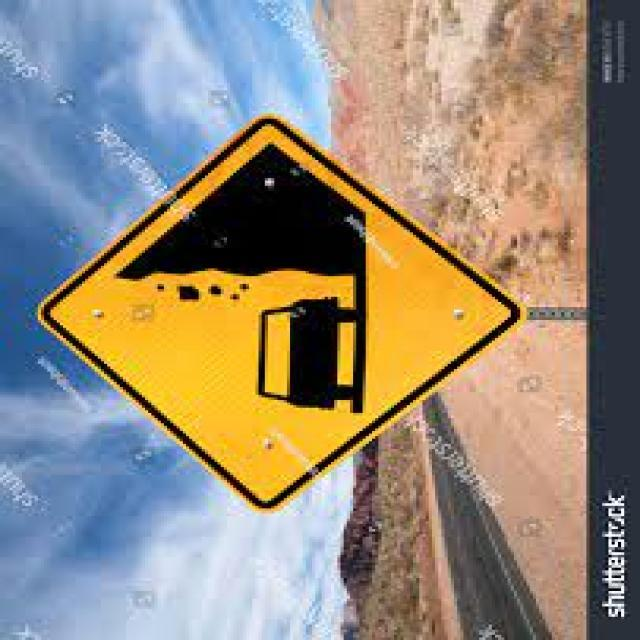Traffic sign: (36, 109, 528, 518)
